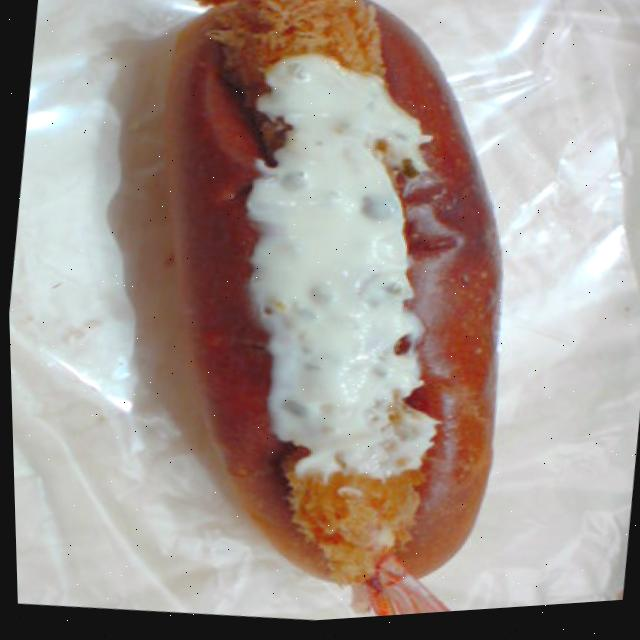三明治: (95, 0, 586, 635)
